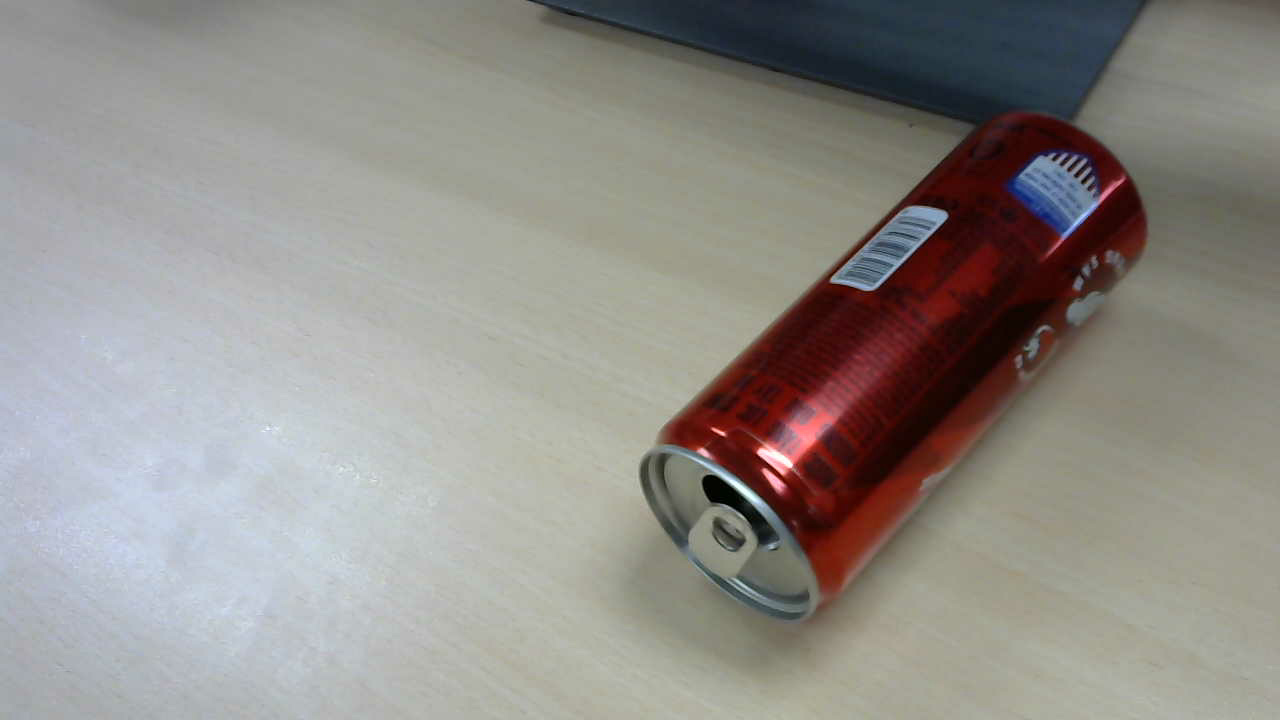Sting: (642, 113, 1152, 629)
